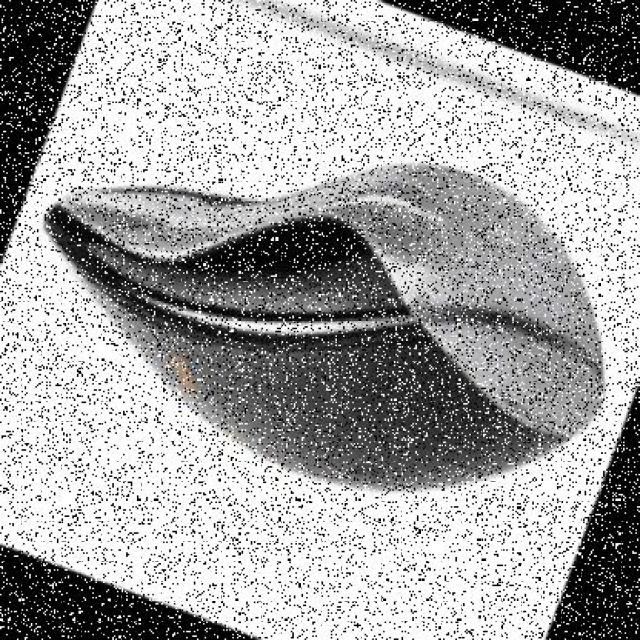mause: (0, 0, 638, 581)
